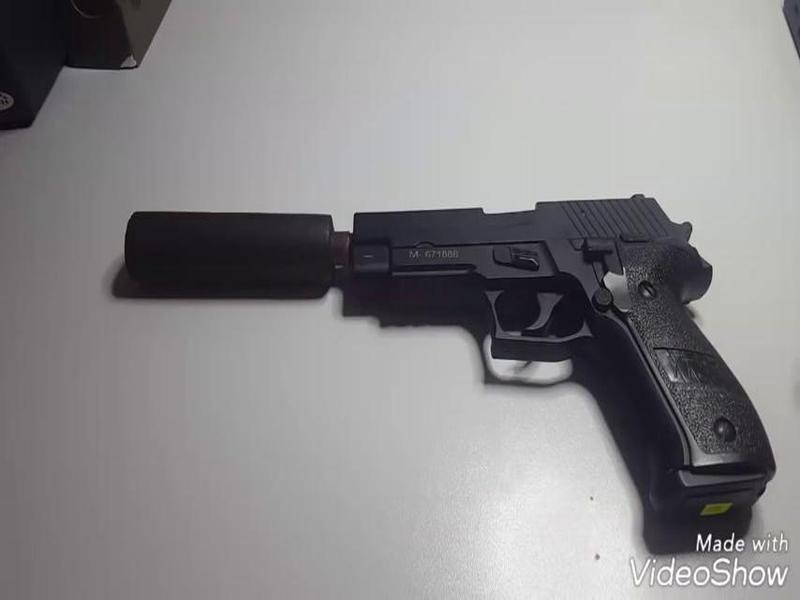Pistola: (99, 161, 781, 516)
